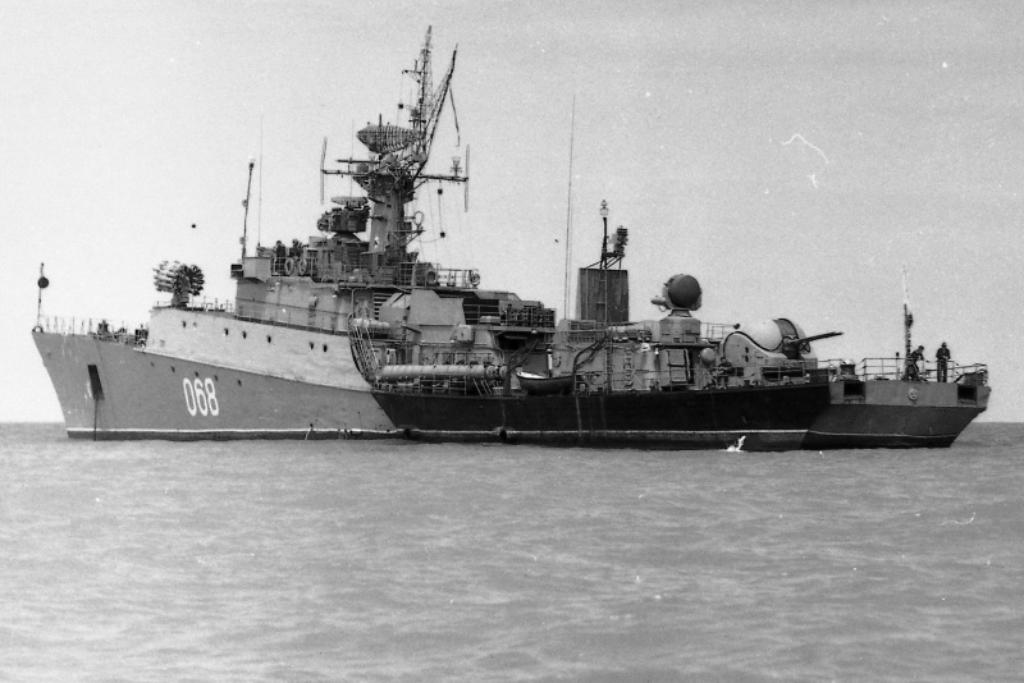Warship: (26, 25, 992, 441)
